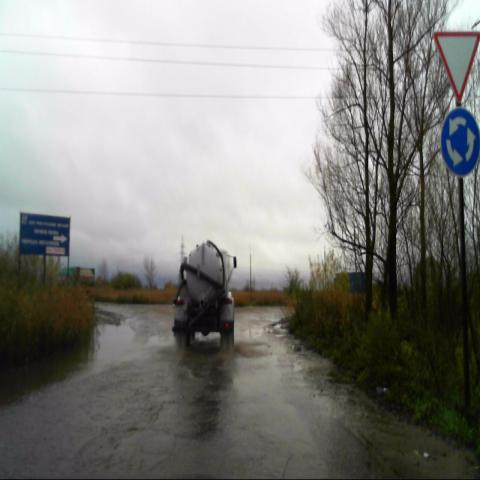2_4: (432, 28, 480, 106)
4_3: (440, 106, 480, 177)
